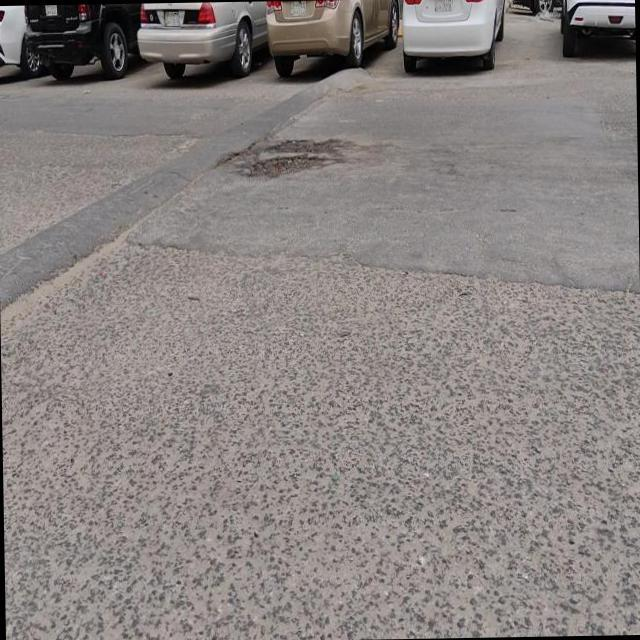Pothole: (245, 134, 343, 178)
